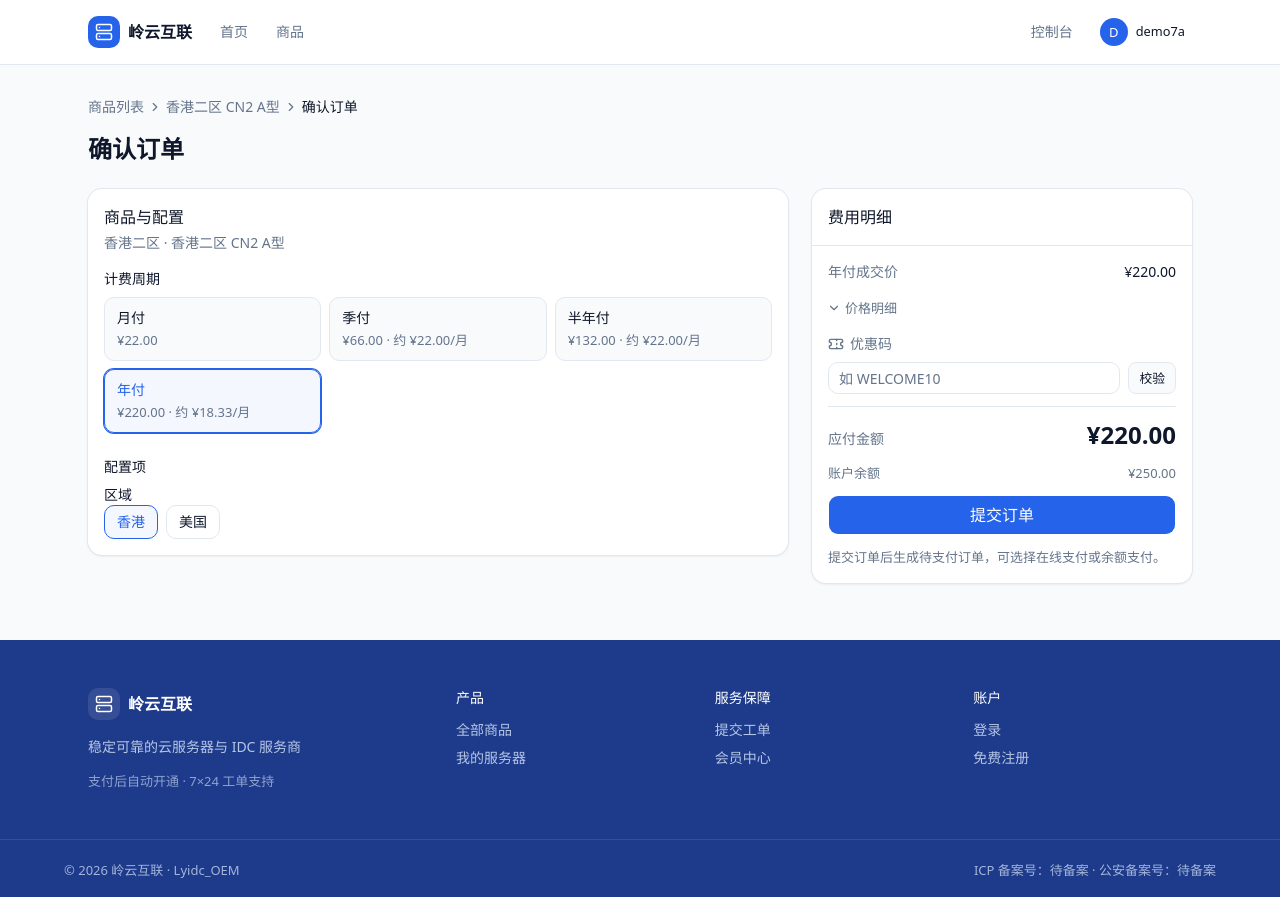
Test: 结算页 › 优惠码校验成功后展示减免并更新应付金额
Expected: the heading "确认订单" is shown, [88,132,184,165]
In the field labelled "优惠码": coordinates (974, 378) [828,362,1120,394], type "WELCOME10"
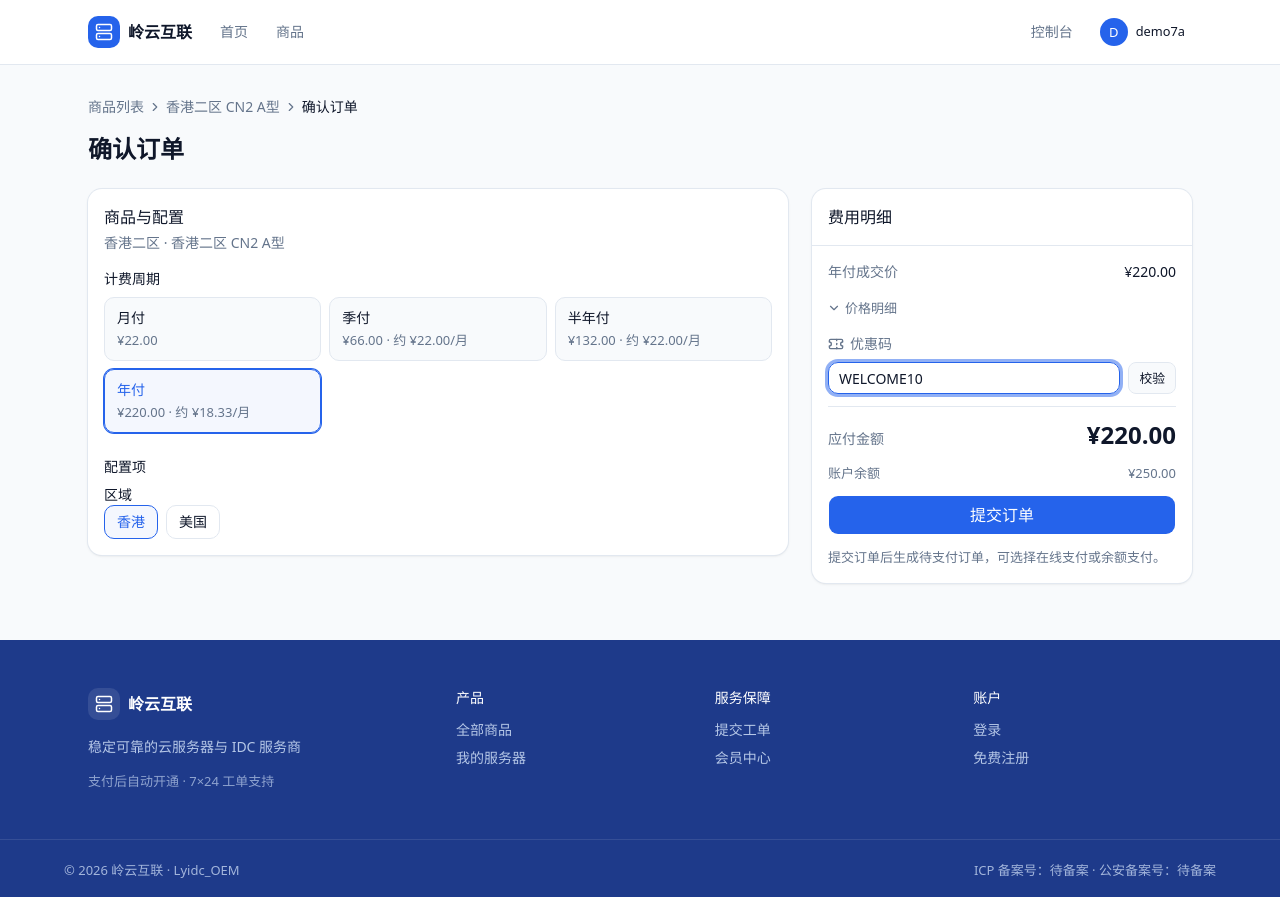
Click the button "校验": coordinates (1152, 378) [1128,362,1176,394]
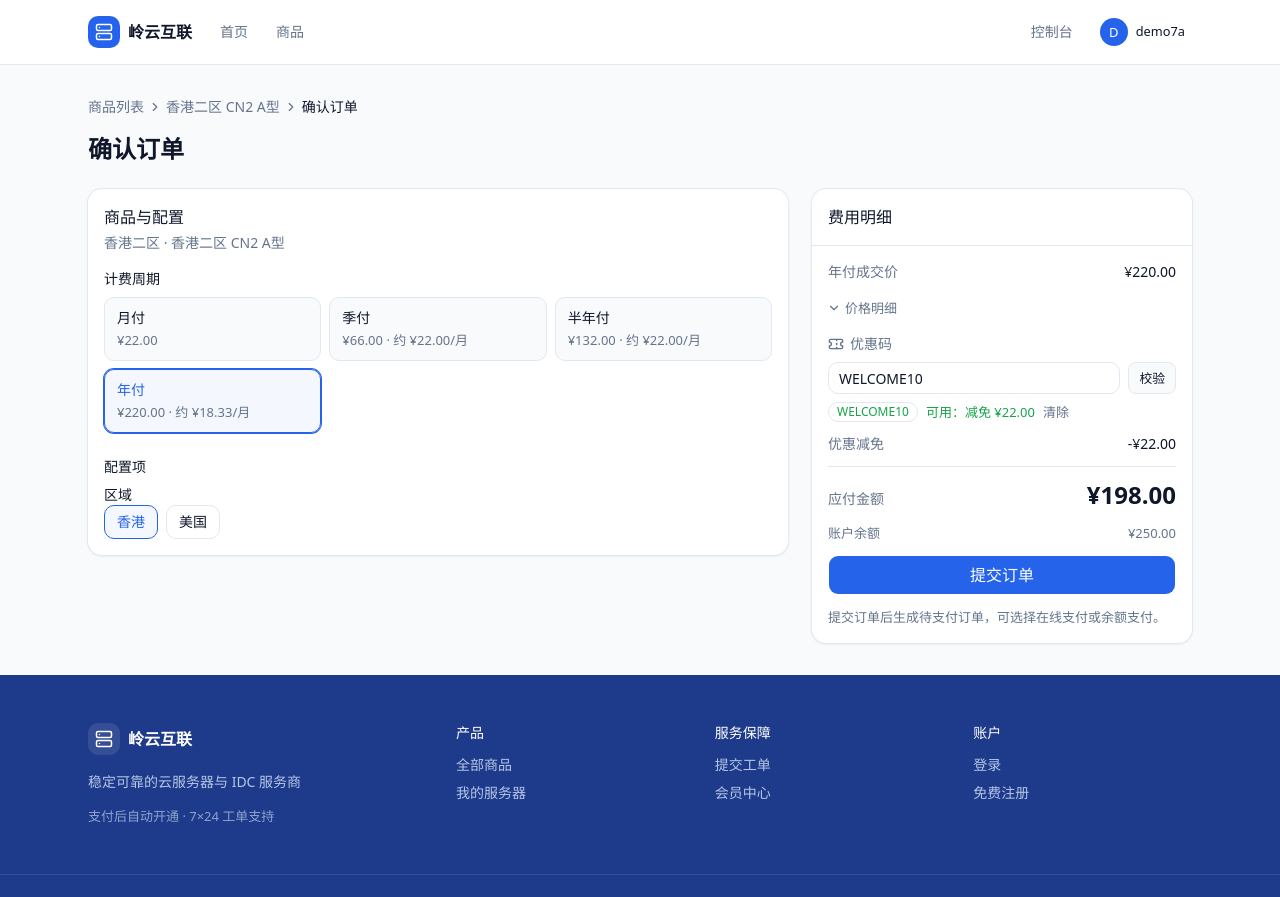
Expected: the text "WELCOME10 可用：减免 ¥22.00 清除" is shown, [828,402,1069,422]
Expected: the text with test id "payable-amount" reads "¥198.00", [1087,478,1176,511]
Expected: the text "-¥22.00" is shown, [1128,434,1176,454]
